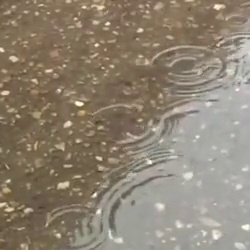drop: (152, 44, 234, 95), (93, 104, 156, 153), (47, 205, 106, 250), (224, 11, 250, 30), (61, 89, 79, 102)
